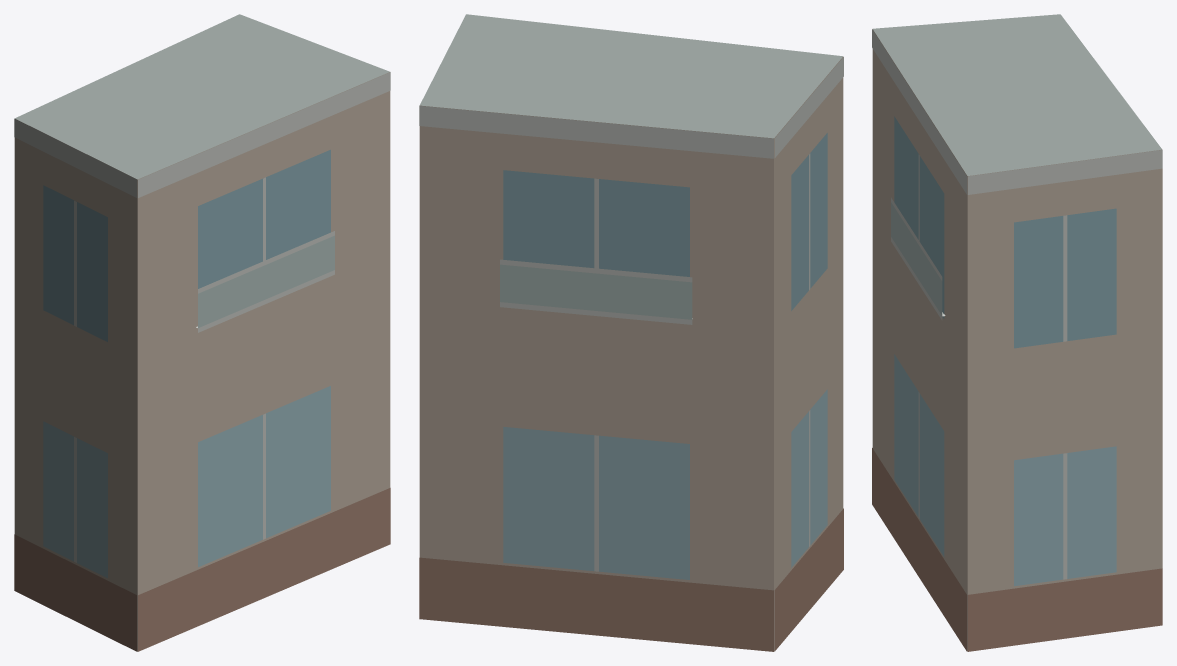
File: survey-upis-33030765.glb
The picture shows the model from 3 angles, left to right: view 1: azimuth 30°, elevation 25°; view 2: azimuth 150°, elevation 25°; view 3: azimuth 270°, elevation 25°; orthographic projection. The views are drawn at different scales.
Parts seen in each view (by area): view 1: survey-upis-33030765.tmp; view 2: survey-upis-33030765.tmp; view 3: survey-upis-33030765.tmp.
Part boxes in pixels (x1=…): survey-upis-33030765.tmp: x1=14, y1=14, x2=390, y2=651; survey-upis-33030765.tmp: x1=419, y1=14, x2=843, y2=651; survey-upis-33030765.tmp: x1=872, y1=14, x2=1162, y2=651.
Size of the model in its own units: 4.47 by 6.1 by 3.38.
